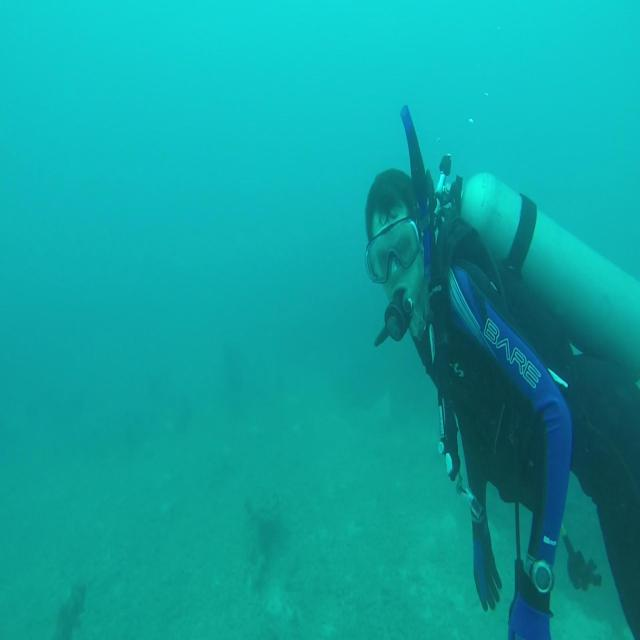human: (364, 103, 639, 638)
